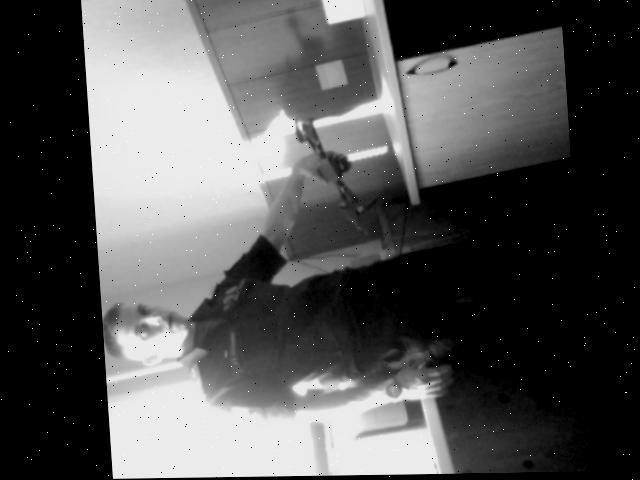drone: (278, 112, 380, 233)
